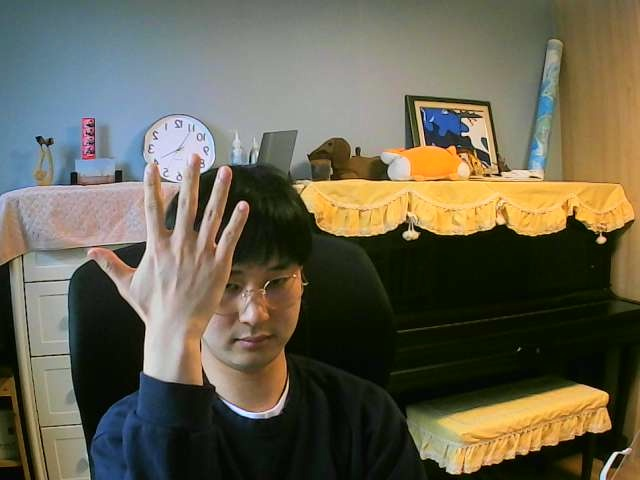five: (78, 145, 253, 356)
